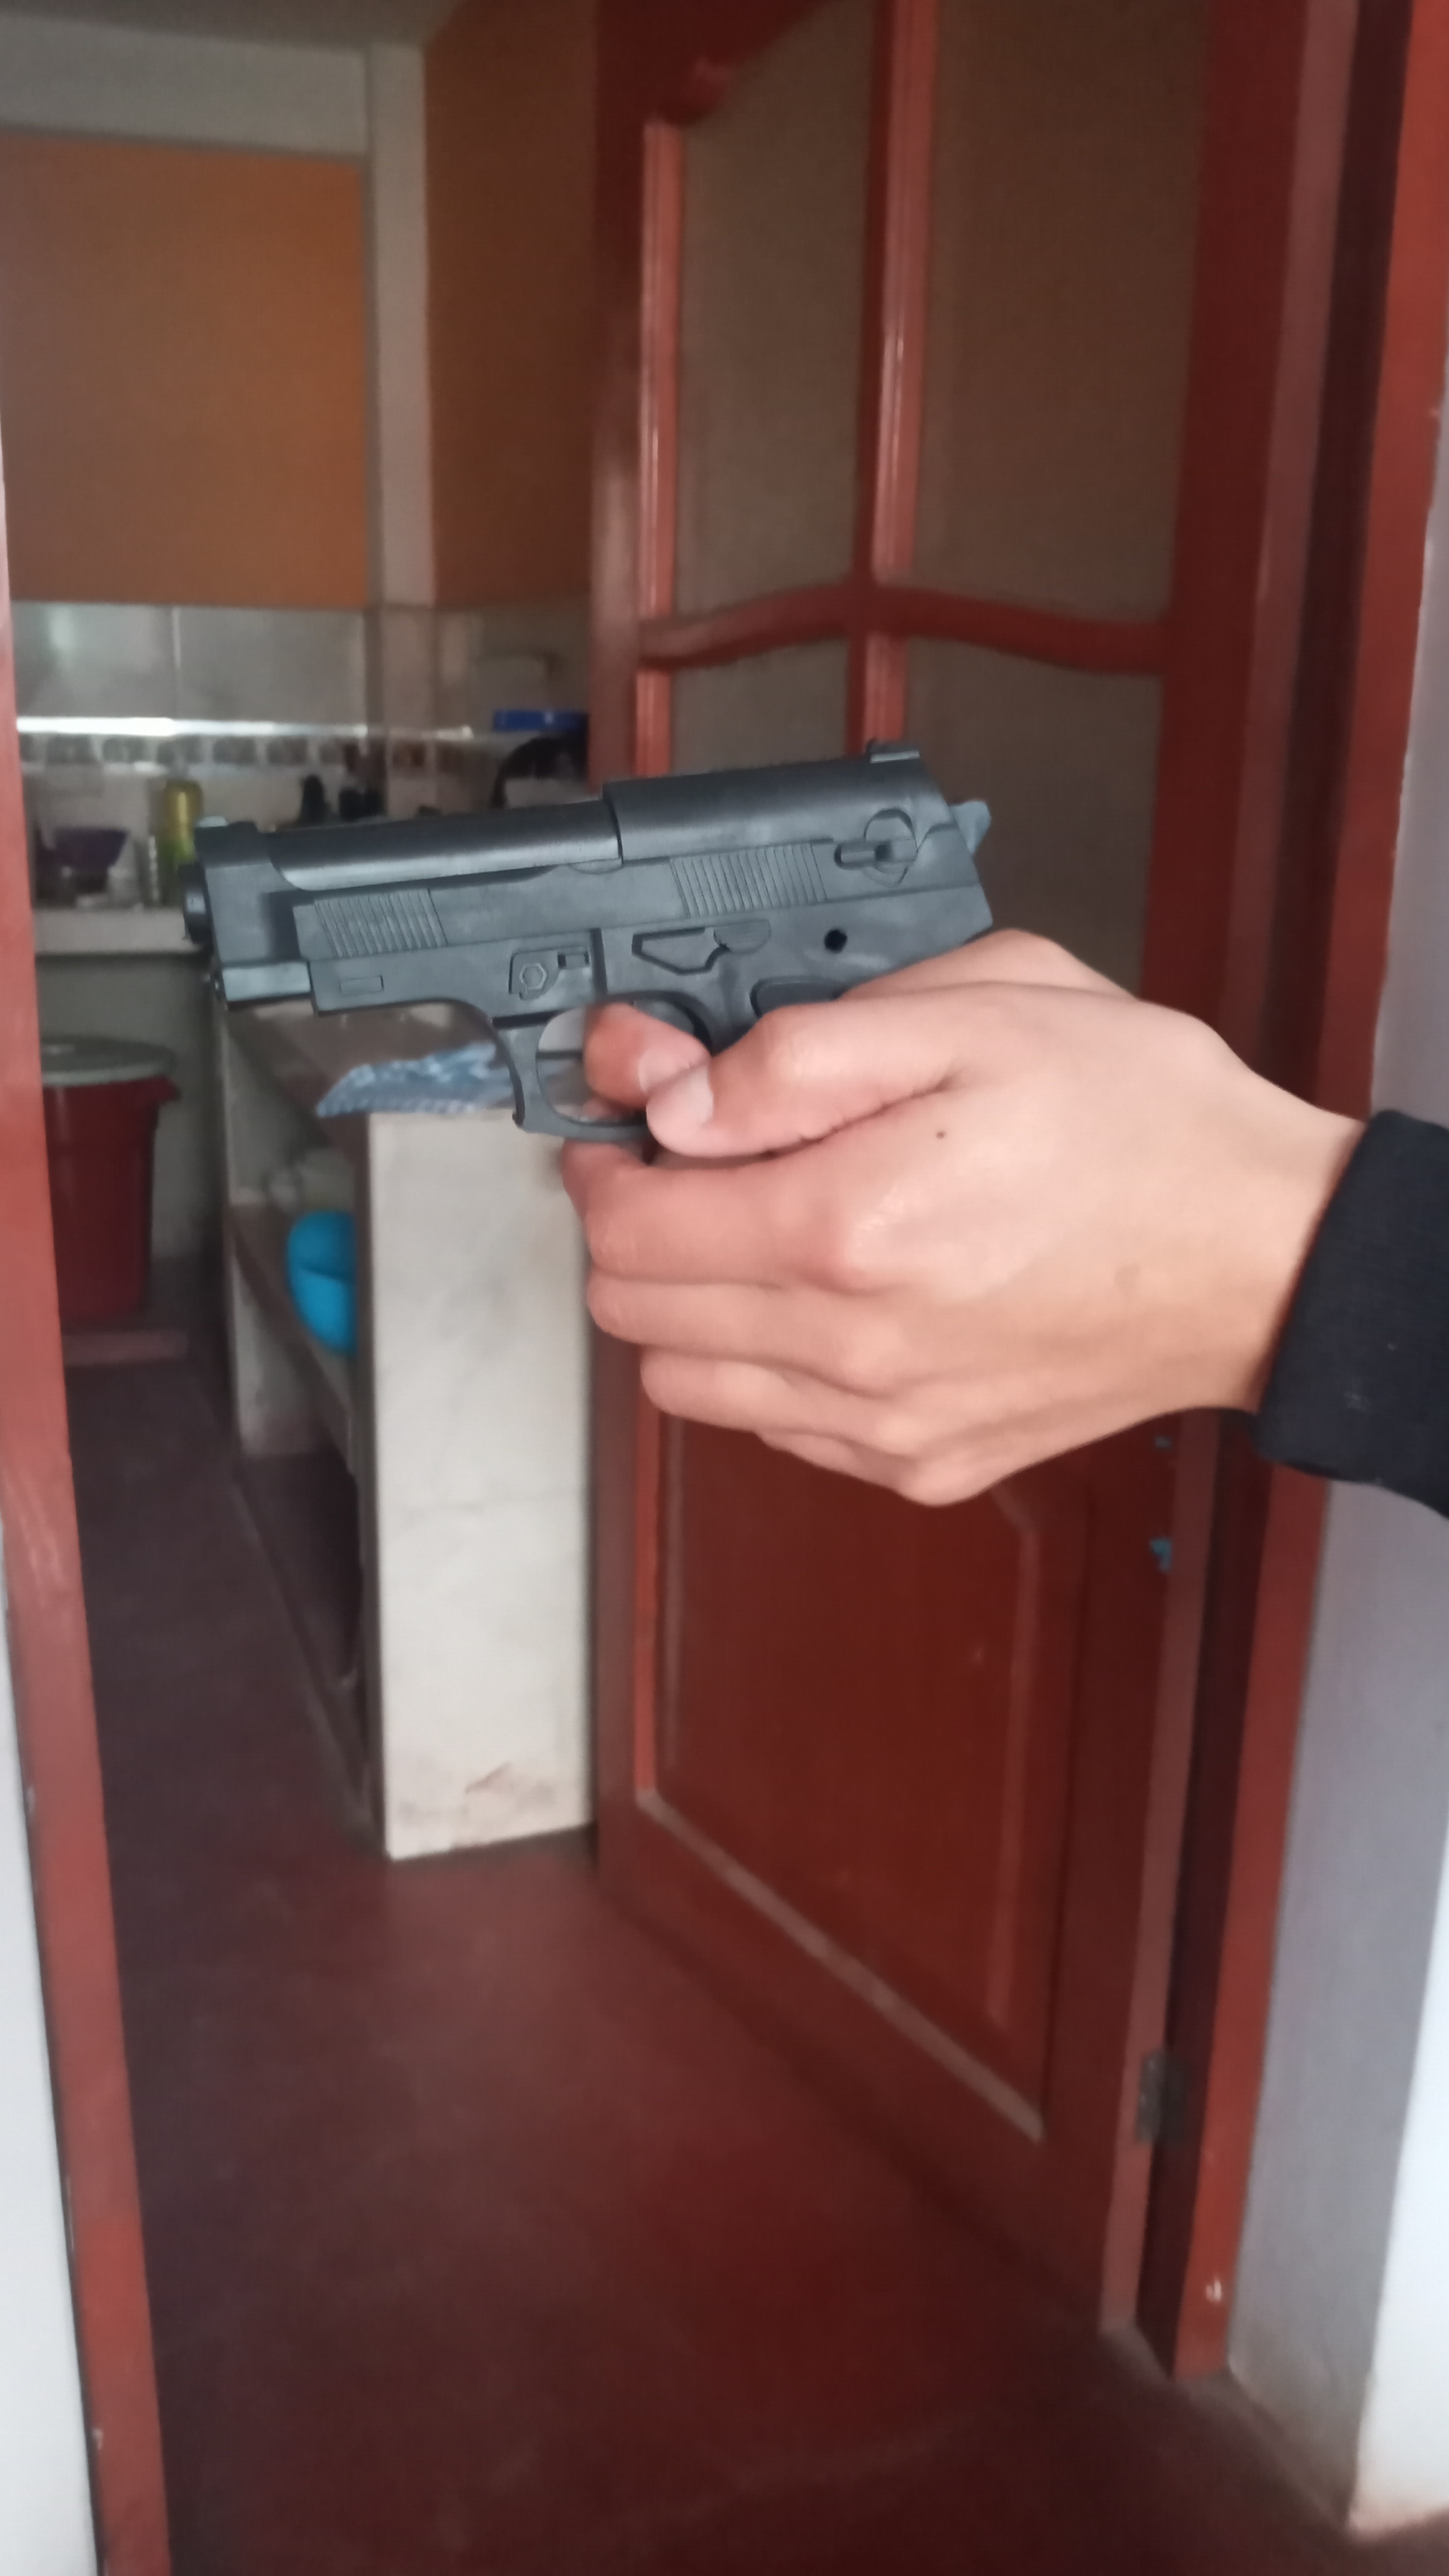Arma: (180, 745, 1014, 1102)
